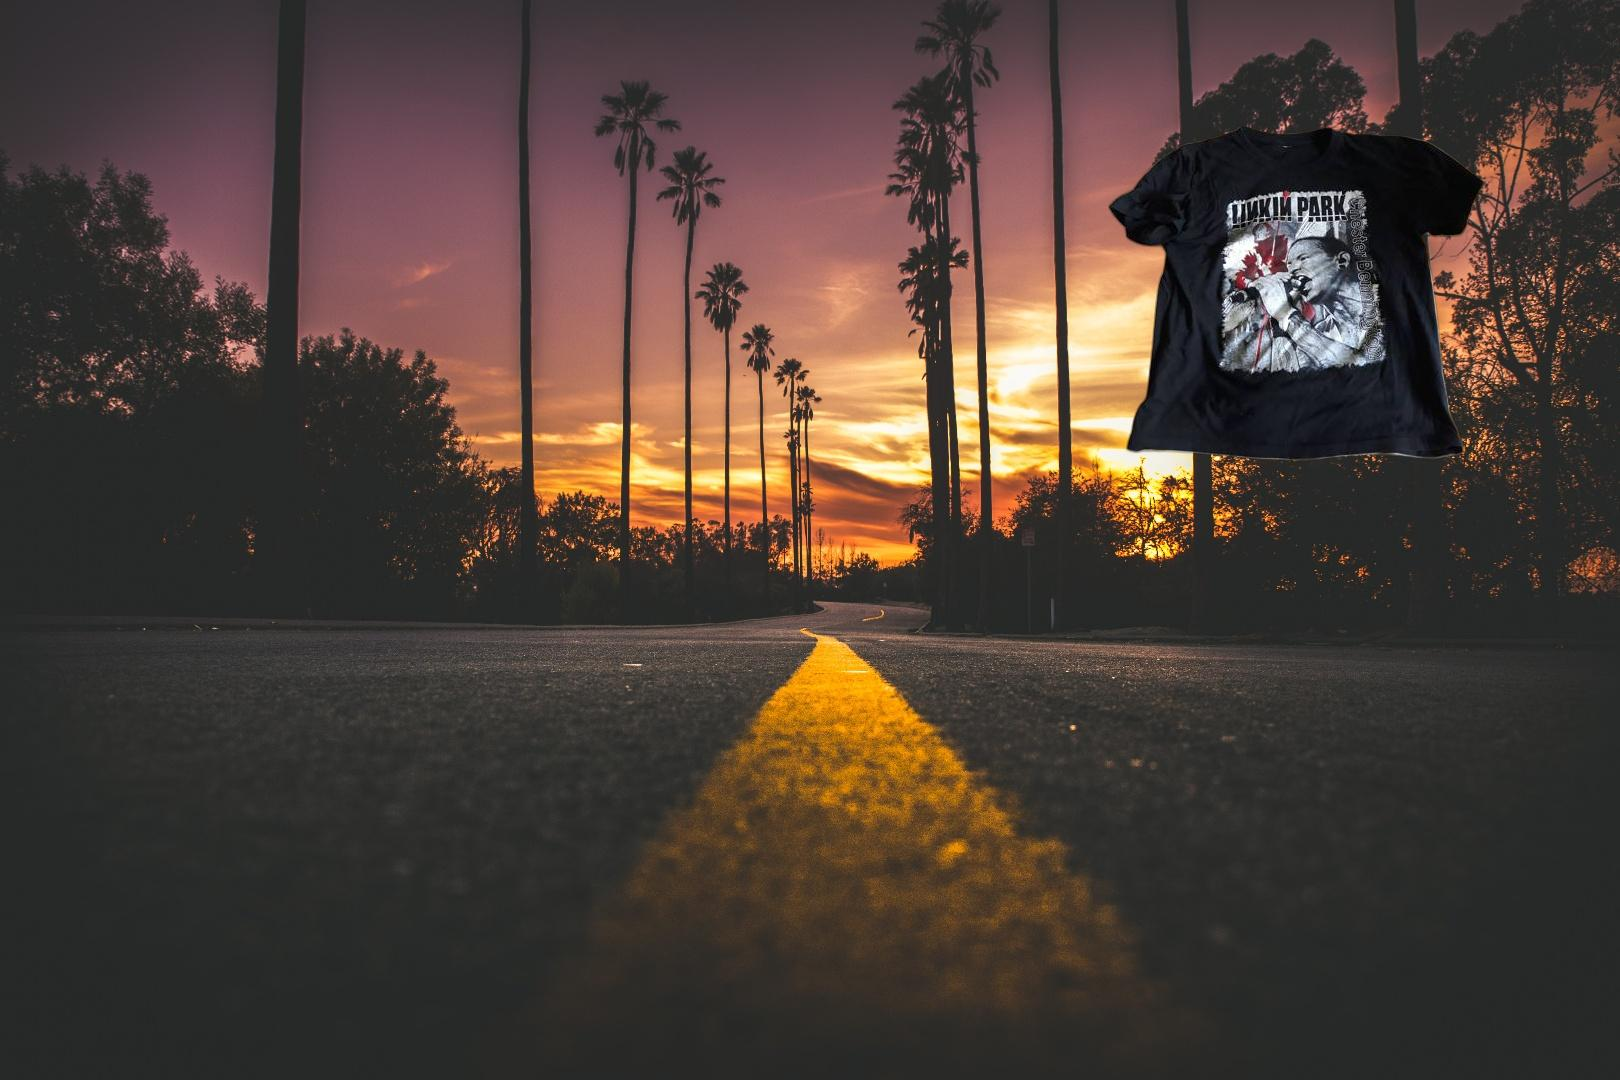clothes: (1105, 121, 1487, 466)
